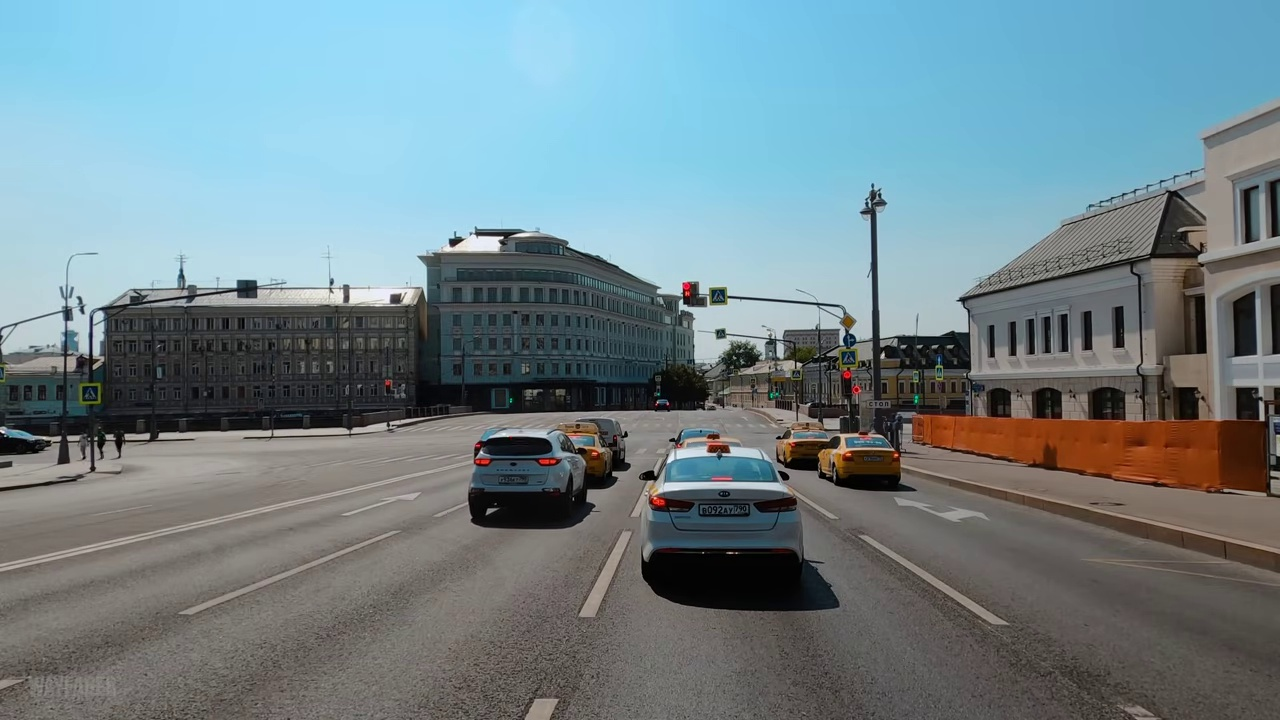apagada: (856, 191, 890, 227)
